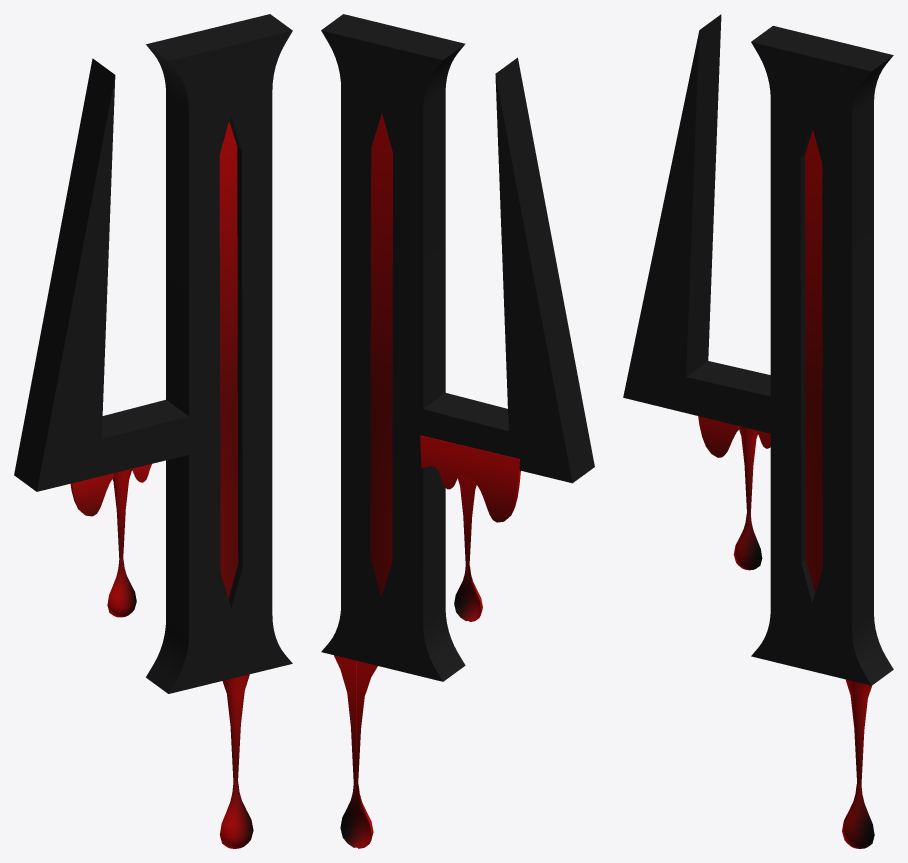
3 renders of one model, left to right at view 1: azimuth 30°, elevation 25°; view 2: azimuth 150°, elevation 25°; view 3: azimuth 330°, elevation 25°, orthographic. The views are drawn at different scales.
Parts seen in each view (by area): view 1: 4, 4_Element, Blood_289, Blood_285, Blood_282; view 2: 4, 4_Element, Blood_282, Blood_289, Blood_285; view 3: 4, 4_Element, Blood_289, Blood_285, Blood_282.
Part boxes in pixels (<box>): 4: <box>14,14,292,693</box>; 4_Element: <box>219,121,238,598</box>; Blood_289: <box>220,674,253,848</box>; Blood_285: <box>107,468,136,617</box>; Blood_282: <box>70,460,167,516</box>; 4: <box>321,14,594,681</box>; 4_Element: <box>370,113,392,597</box>; Blood_282: <box>420,435,520,522</box>; Blood_289: <box>334,655,377,848</box>; Blood_285: <box>454,475,482,621</box>; 4: <box>623,14,893,685</box>; 4_Element: <box>805,130,822,593</box>; Blood_289: <box>842,679,874,848</box>; Blood_285: <box>733,426,762,570</box>; Blood_282: <box>698,416,770,457</box>.
Size of the model in its own units: 32.46 by 99.89 by 5.06.
2 materials, 1 textured.
